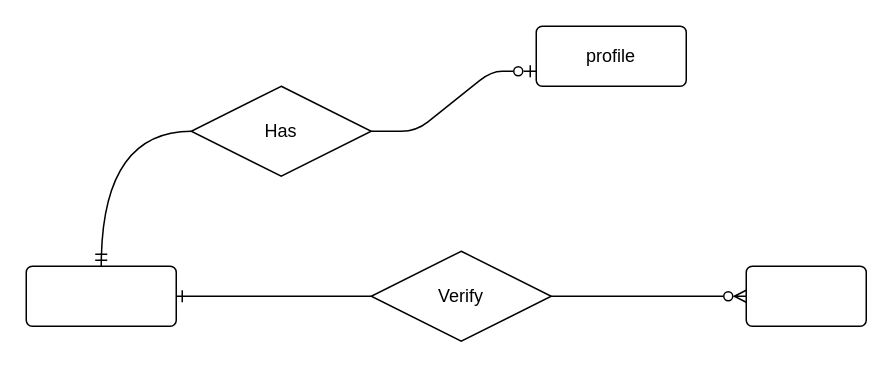
This 893x368 diagram has some shape labels left out. The shapes that lost their labels are listed below. From the top down, each one's centre as x and y in pixels, then its label:
(x=100, y=295): user
(x=805, y=295): session
